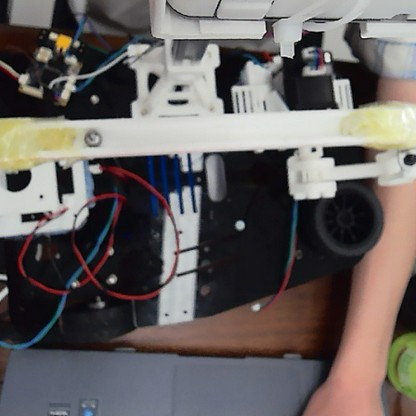ironball: (80, 126, 104, 149)
